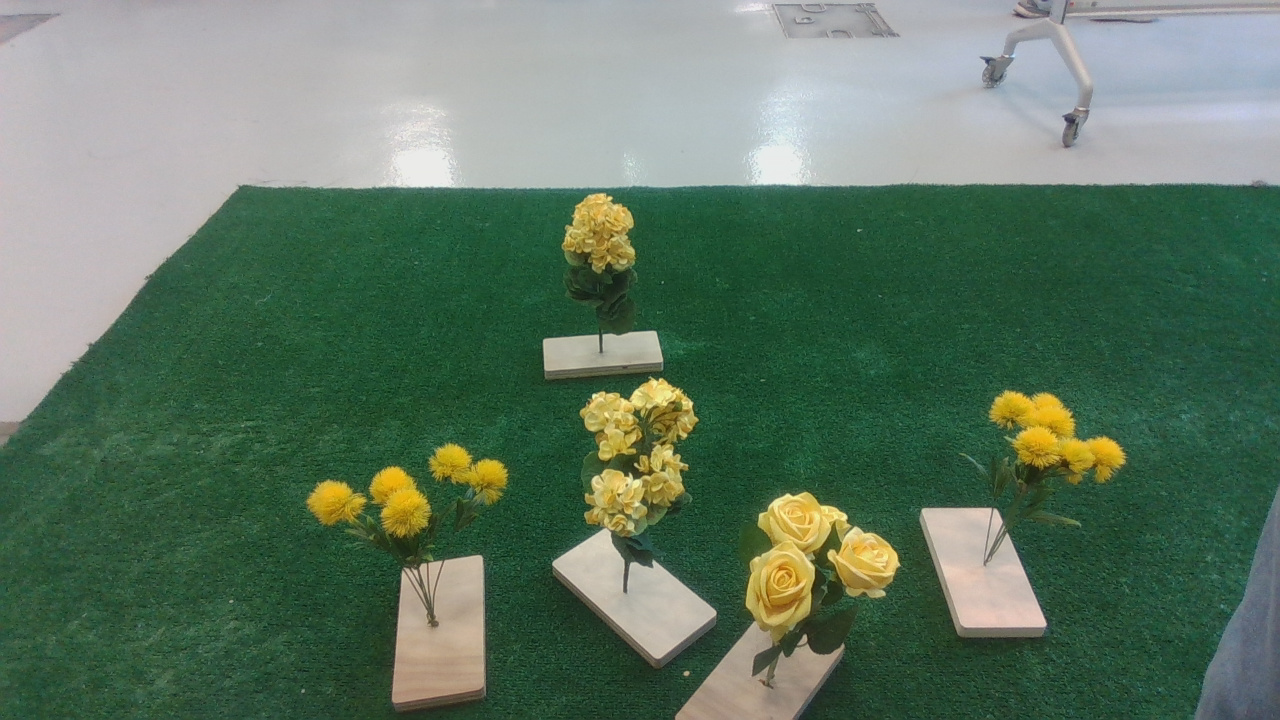dandelion: (935, 380, 1141, 521), (301, 446, 523, 561)
geranium: (573, 380, 712, 549), (536, 189, 661, 320)
rose: (737, 482, 908, 663)
